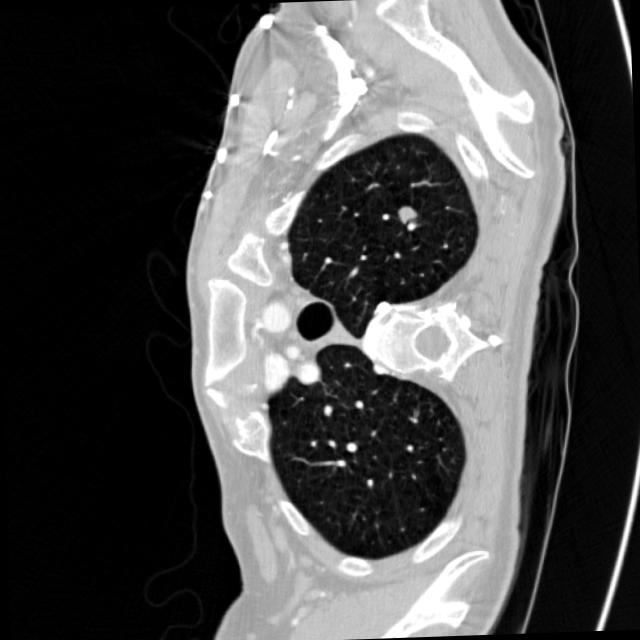nodule: (386, 192, 427, 232)
